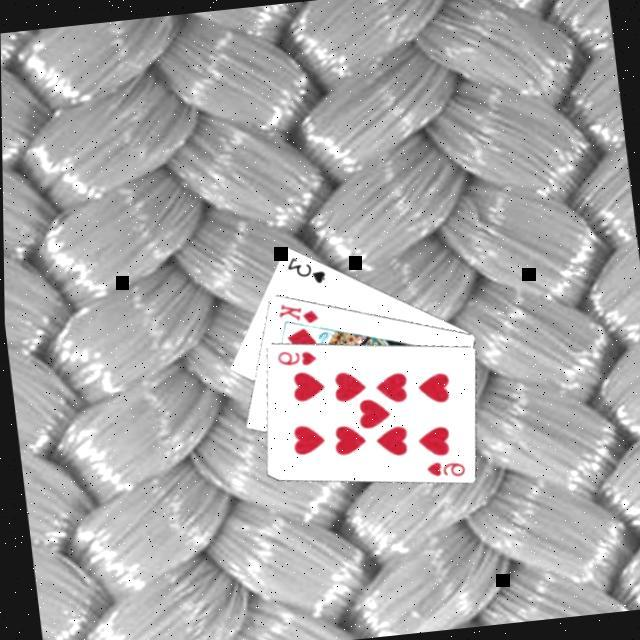3S: (279, 252, 326, 290)
9H: (270, 346, 316, 372), (418, 456, 464, 482)
KD: (270, 298, 318, 331)
